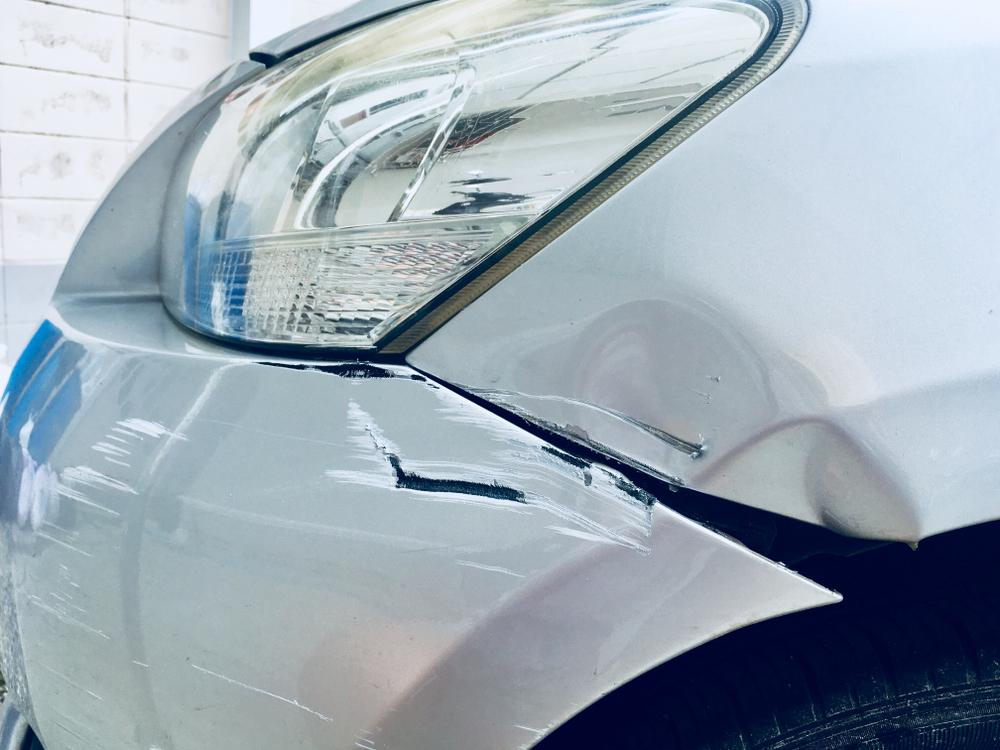dent: (458, 293, 927, 540)
scratch: (246, 359, 658, 560), (22, 406, 189, 750), (177, 661, 341, 727)
